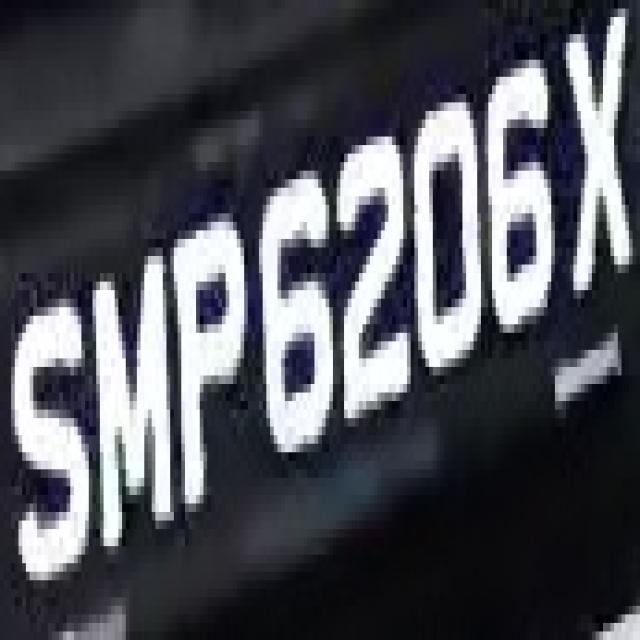0: (396, 102, 488, 384)
2: (329, 77, 407, 435)
6: (473, 42, 562, 332), (252, 171, 341, 452)
M: (78, 231, 181, 546)
P: (163, 171, 244, 529)
S: (8, 273, 92, 597)
X: (551, 0, 628, 324)
